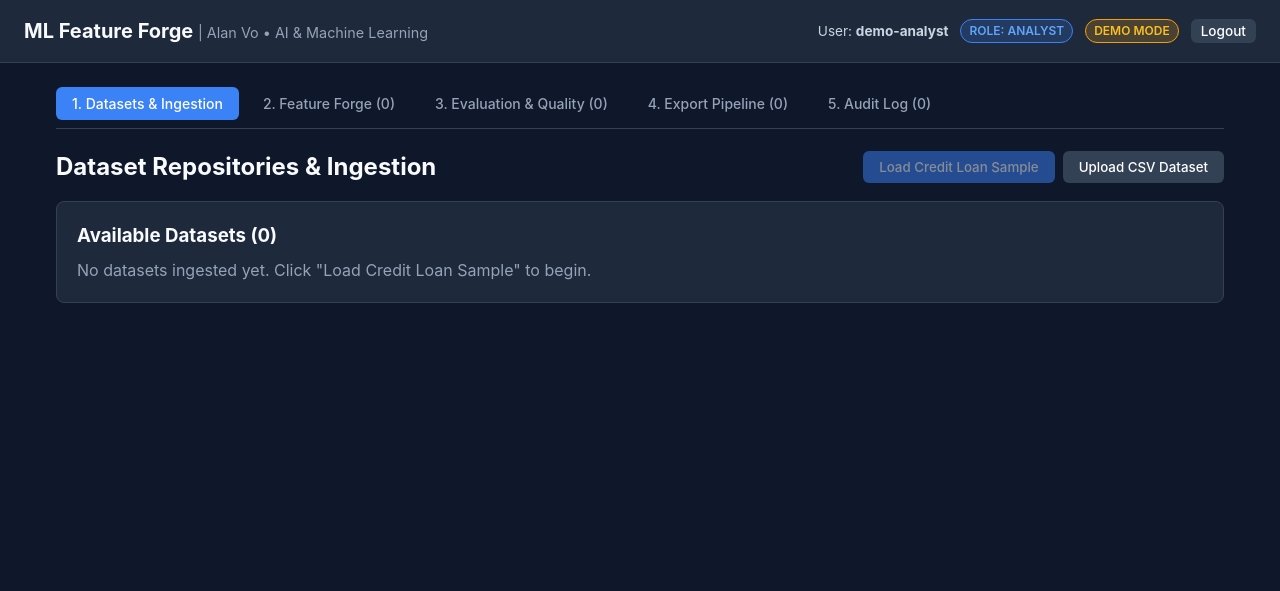
Test: ML Feature Forge Frontend Application › displays evaluation metrics and verdict tags
This screenshot has width=1280, height=591.
Click the button "3. Evaluation & Quality (0)" at (522, 104), box top-left (419, 87), bottom-right (624, 120)
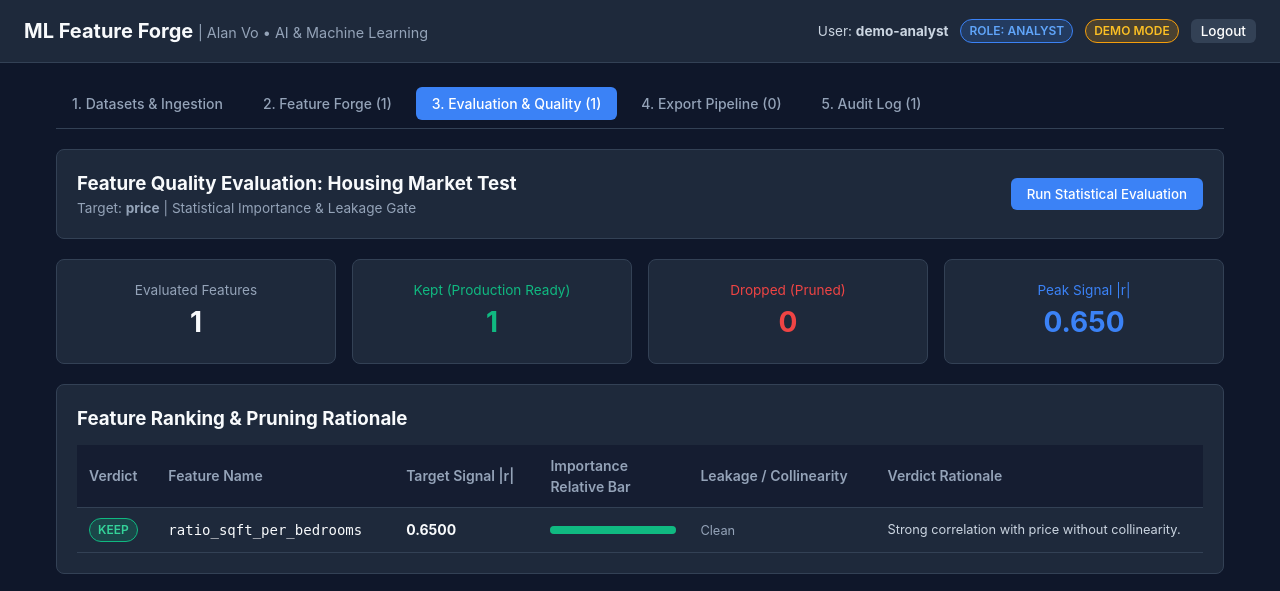
Result: the text "keep" is shown at top-left (89, 518), bottom-right (138, 542)
Result: the text "Strong correlation with price without collinearity." is shown at top-left (876, 507), bottom-right (1203, 552)
